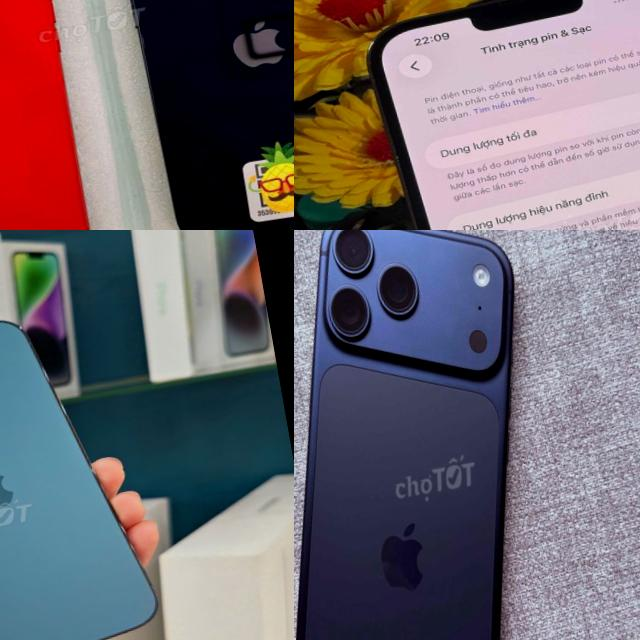gen_12_13: (358, 0, 640, 230), (0, 300, 167, 640)
gen_14: (0, 0, 112, 230)
gen_17: (294, 230, 609, 640)
